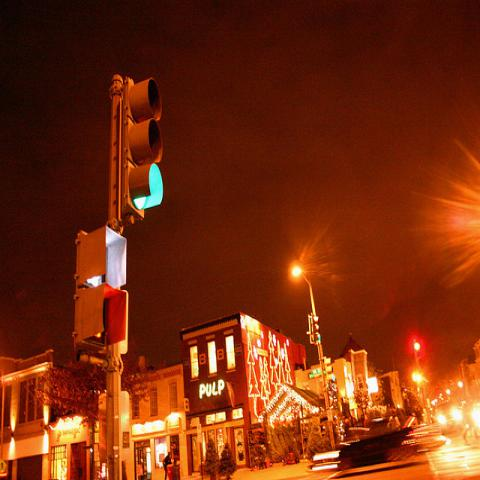car: (439, 402, 464, 434)
